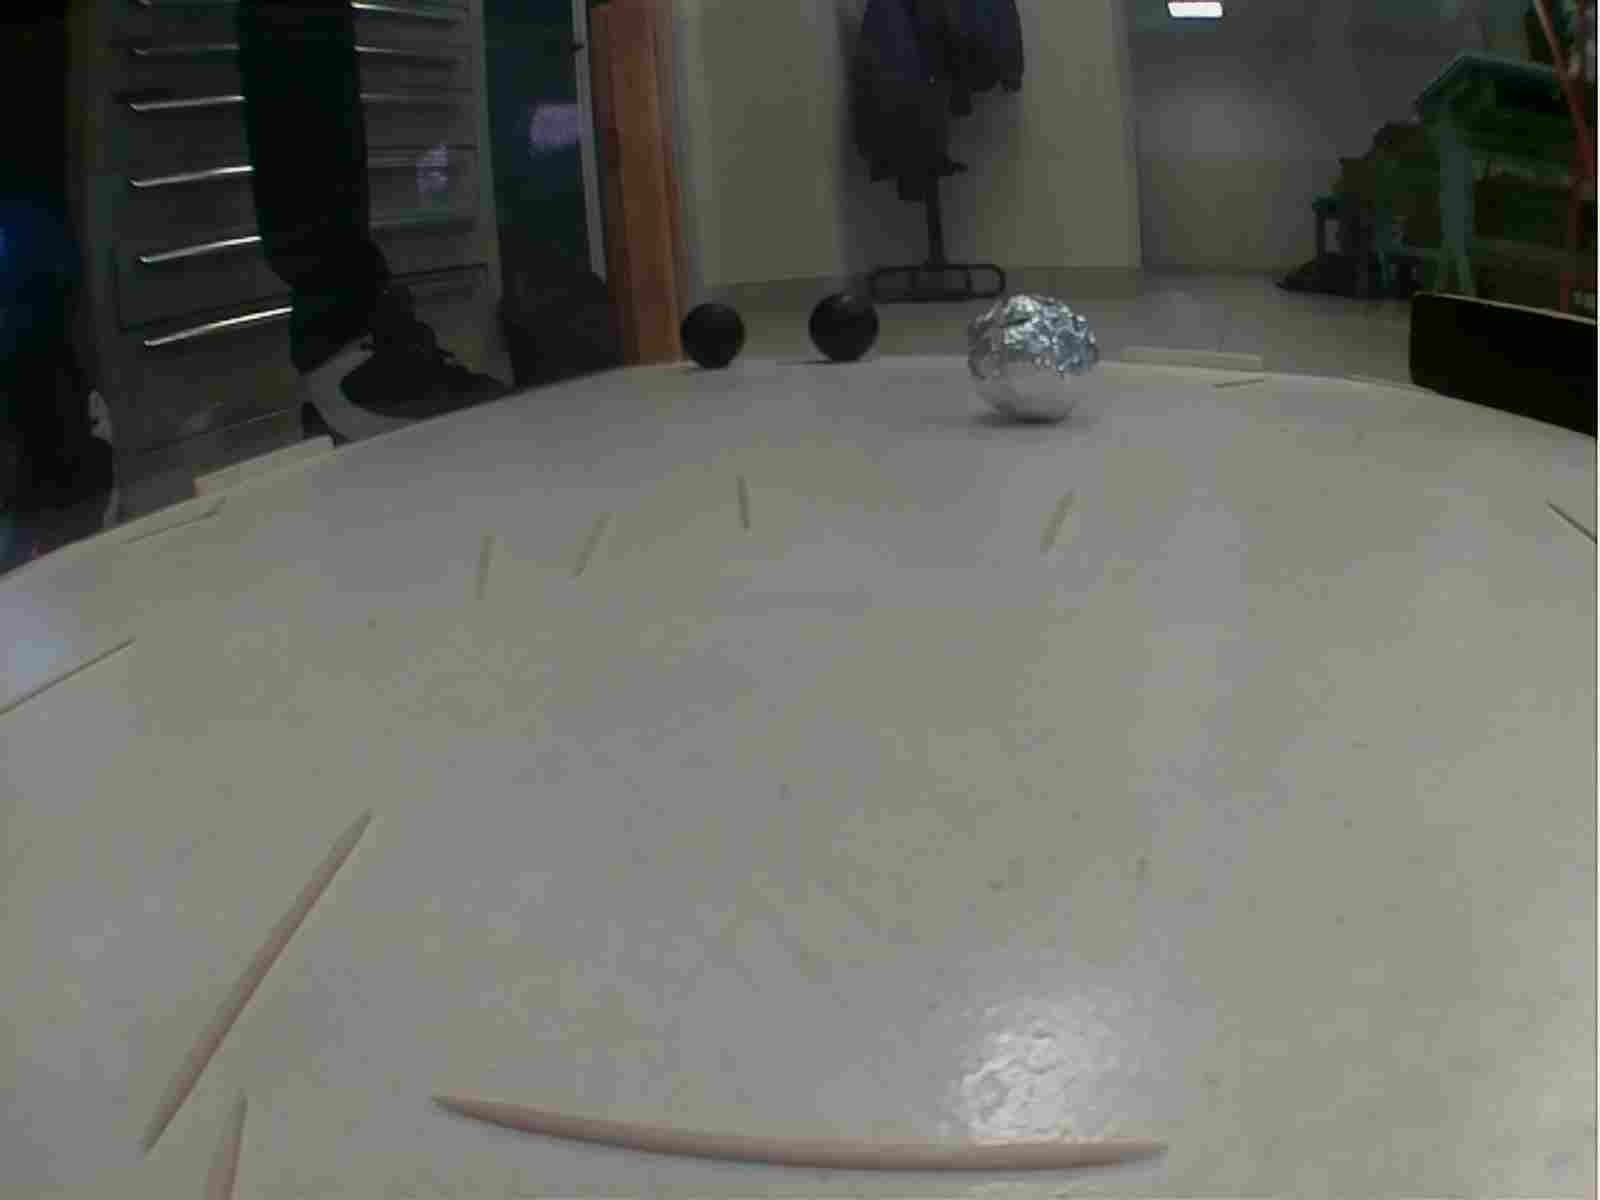bianca: (968, 294, 1097, 426)
nera: (806, 287, 878, 361), (682, 301, 746, 371)
